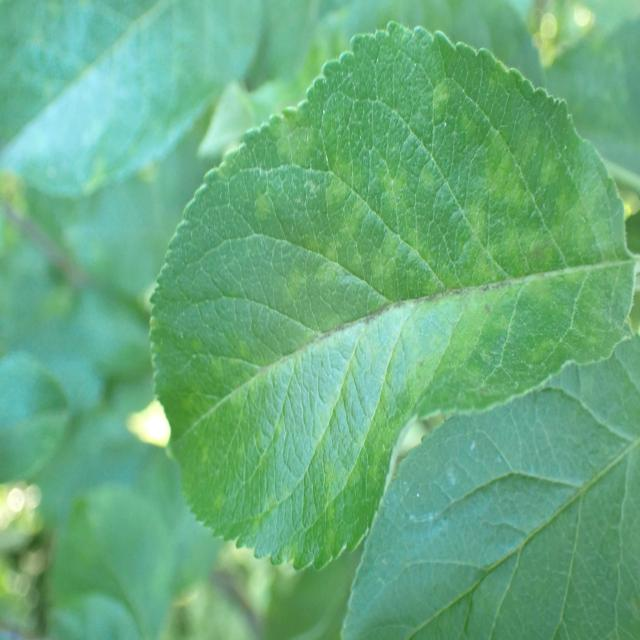scab: (175, 95, 623, 494)
